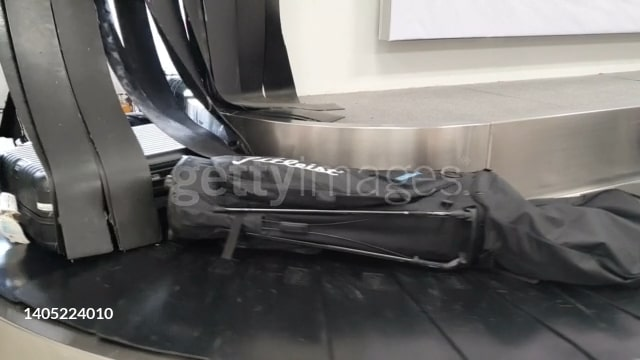baggage: (164, 159, 638, 285), (5, 133, 219, 258)
